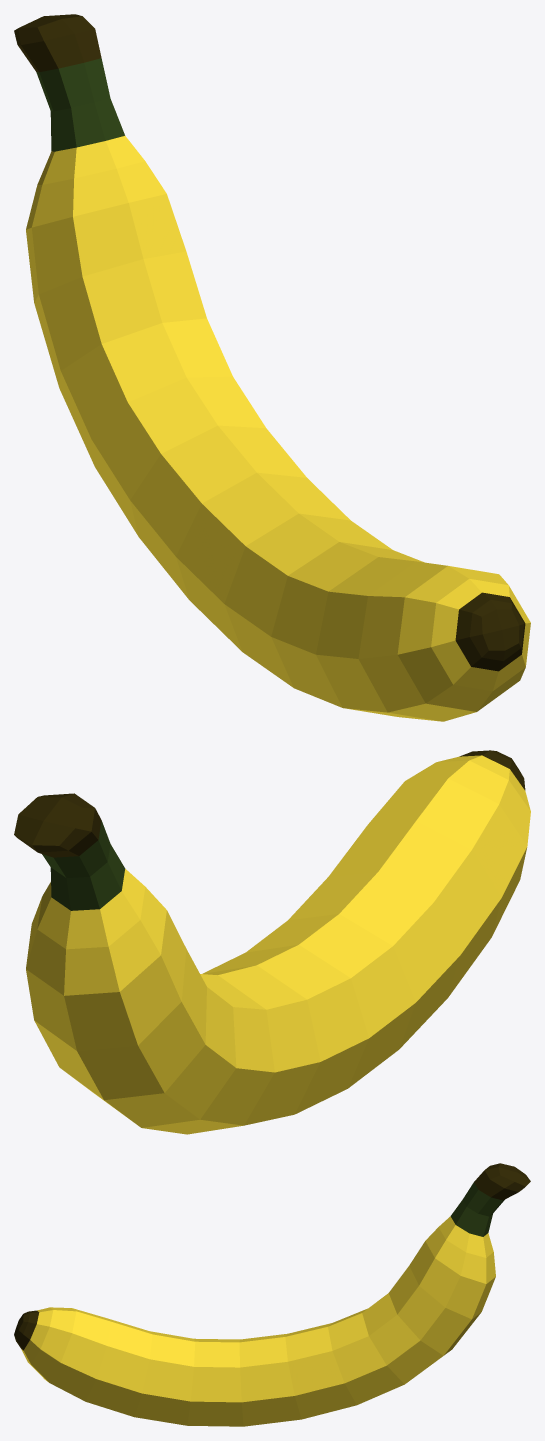
The model's file is Banana.fbx.
3 renders of one model, top to bottom at view 1: azimuth 30°, elevation 25°; view 2: azimuth 150°, elevation 25°; view 3: azimuth 270°, elevation 25°, orthographic. The views are drawn at different scales.
Parts seen in each view (by area): view 1: Cube.002; view 2: Cube.002; view 3: Cube.002.
Boxes of the visible parts, left/top/right/bottom form: Cube.002: left=14, top=14, right=530, bottom=721; Cube.002: left=14, top=750, right=530, bottom=1134; Cube.002: left=14, top=1163, right=530, bottom=1426.
Size of the model in its own units: 6.15 by 19.05 by 34.8.
